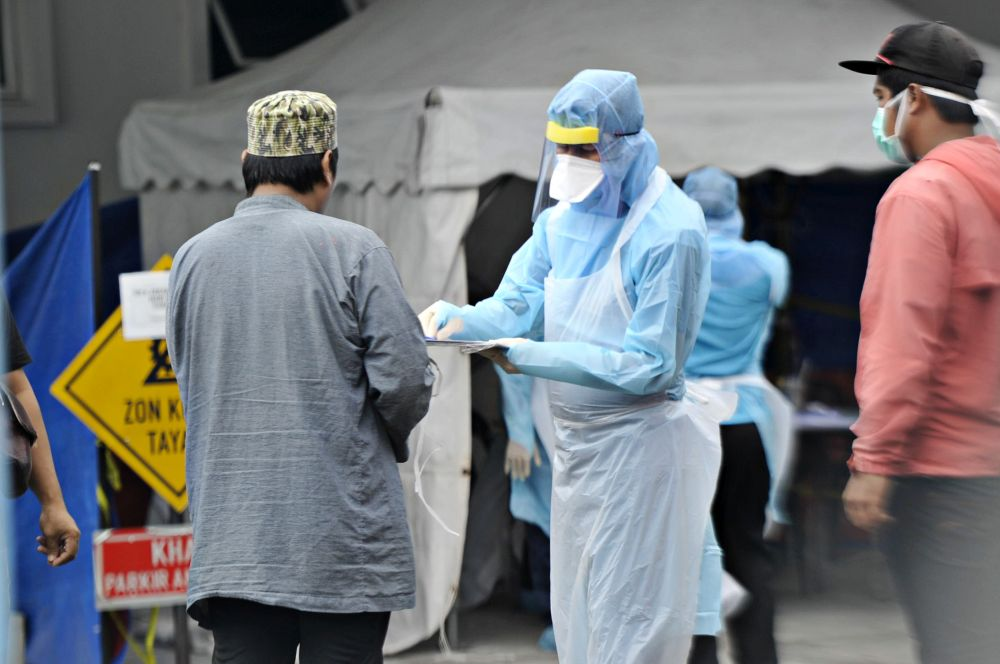Face_Shield: (527, 115, 614, 231)
Gloves: (414, 293, 507, 352)
with_mask: (872, 73, 920, 173), (548, 137, 607, 206)
